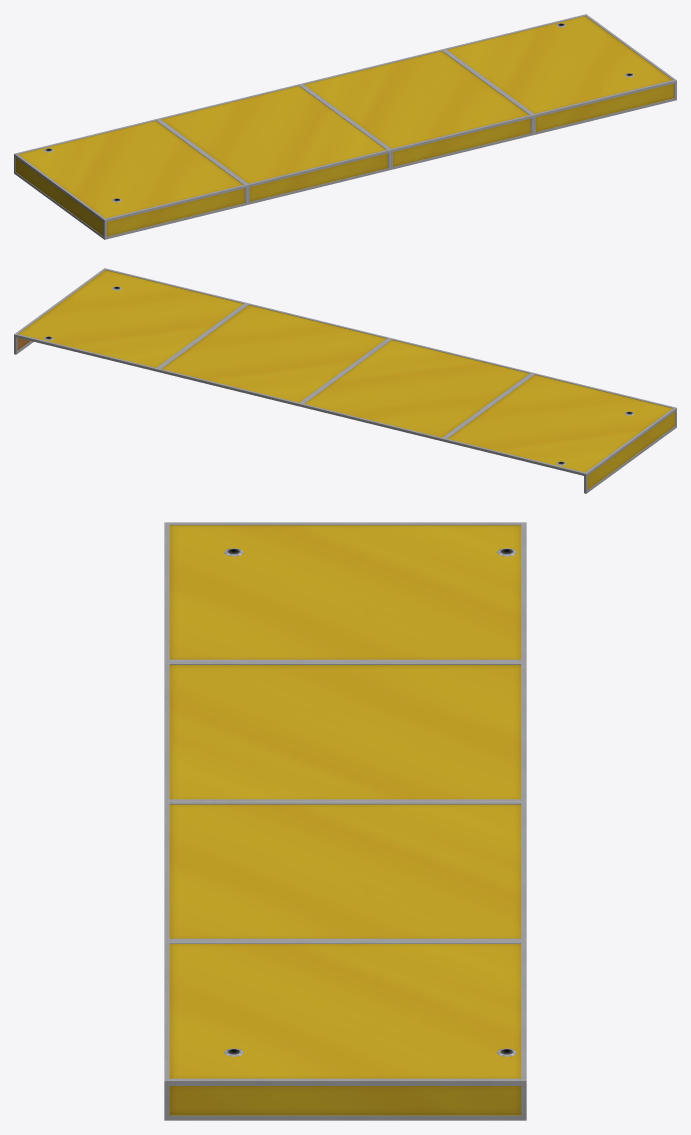
Rendered from jsf_4P_s04_c03_t01_DX.fbx.
3 renders of one model, top to bottom at view 1: azimuth 30°, elevation 25°; view 2: azimuth 150°, elevation 25°; view 3: azimuth 270°, elevation 25°, orthographic. The views are drawn at different scales.
Parts seen in each view (by area): view 1: jsf_4P_s04_c03_t01_DX; view 2: jsf_4P_s04_c03_t01_DX; view 3: jsf_4P_s04_c03_t01_DX.
Part boxes in pixels (x1,y1,x2,y2): jsf_4P_s04_c03_t01_DX: [14, 14, 676, 239]; jsf_4P_s04_c03_t01_DX: [14, 268, 676, 493]; jsf_4P_s04_c03_t01_DX: [164, 522, 526, 1120].
Bounding box in the file's own units: 378 × 12.99 × 104.
